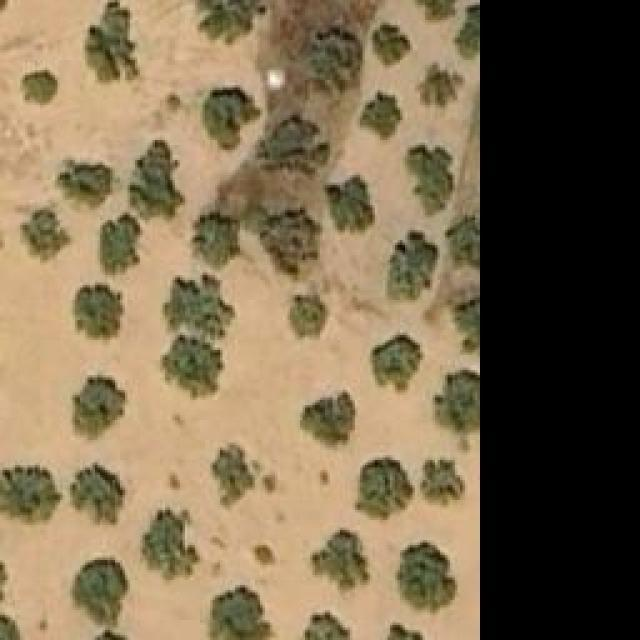Tree: (83, 0, 146, 85), (395, 540, 458, 613), (162, 273, 230, 336), (142, 508, 200, 581), (68, 373, 128, 443), (258, 118, 328, 178), (208, 582, 278, 640), (262, 210, 320, 280), (123, 145, 173, 225), (160, 338, 223, 401), (355, 458, 415, 523), (203, 88, 263, 151), (297, 390, 355, 453), (210, 442, 263, 510), (70, 283, 125, 348), (75, 555, 130, 620), (193, 0, 266, 48), (403, 145, 453, 215), (310, 28, 360, 98), (313, 528, 368, 591), (388, 230, 438, 298), (370, 335, 423, 395), (188, 210, 241, 265), (435, 368, 478, 433), (0, 468, 55, 518), (323, 178, 373, 231), (415, 458, 465, 508), (73, 463, 118, 518), (415, 64, 463, 115), (63, 163, 118, 206), (90, 215, 135, 265), (443, 208, 478, 271), (360, 93, 403, 143), (448, 293, 483, 353), (18, 210, 61, 258), (290, 292, 328, 340), (455, 3, 482, 61), (20, 70, 60, 108), (302, 612, 350, 640), (375, 23, 405, 66), (380, 620, 440, 640), (0, 612, 22, 639), (253, 543, 276, 568)
